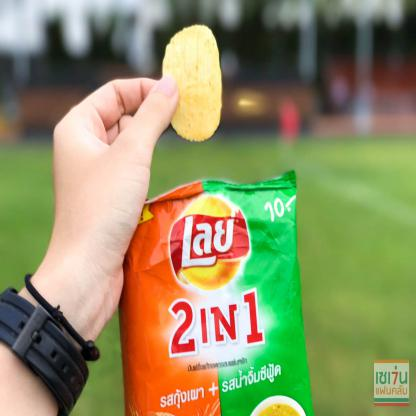potatochip: (104, 166, 319, 416)
